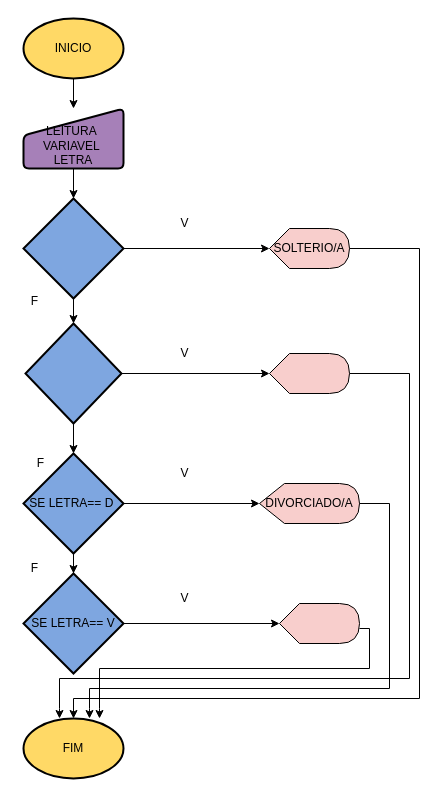
This 445x796 diagram has some shape labels left out. Here are the shapes that lost their labels. From the top down, the box of each, then its label:
(22, 197, 124, 299): SE LETRA== S
(24, 322, 122, 424): SE LETRA== C
(268, 352, 350, 394): CASADO/A
(278, 602, 360, 644): VIÚVO/A
